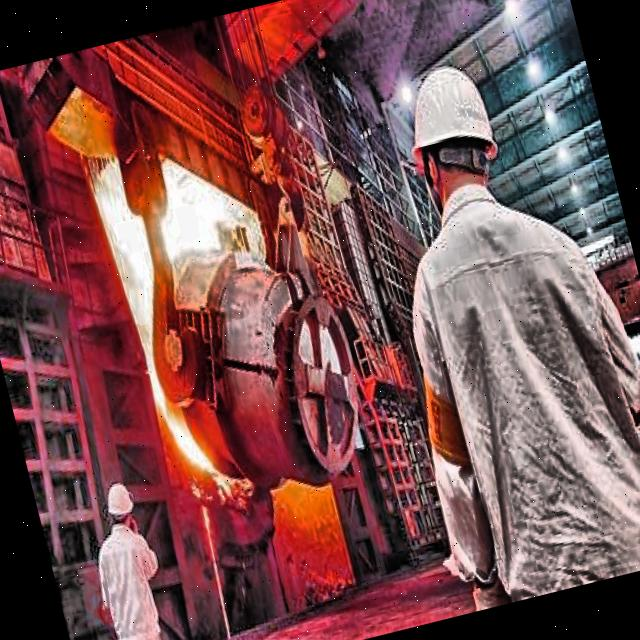helmet: (382, 43, 524, 240), (102, 480, 144, 540)
